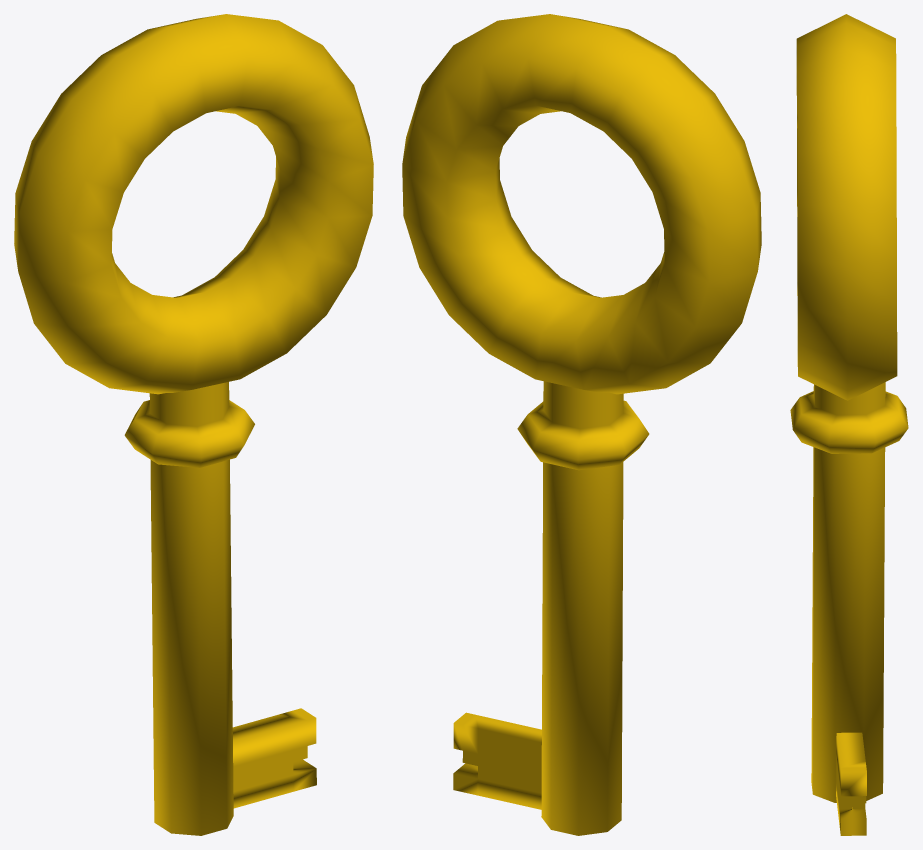
File: Key.fbx
3 renders of one model, left to right at view 1: azimuth 30°, elevation 25°; view 2: azimuth 150°, elevation 25°; view 3: azimuth 270°, elevation 25°, orthographic. The views are drawn at different scales.
Visible parts, largest first — view 1: Key; view 2: Key; view 3: Key.
Part boxes in pixels (bbox=[...]): Key: bbox=[14, 14, 373, 835]; Key: bbox=[402, 14, 761, 835]; Key: bbox=[790, 14, 908, 835].
Size of the model in its own units: 10.9 by 23.66 by 3.36.
